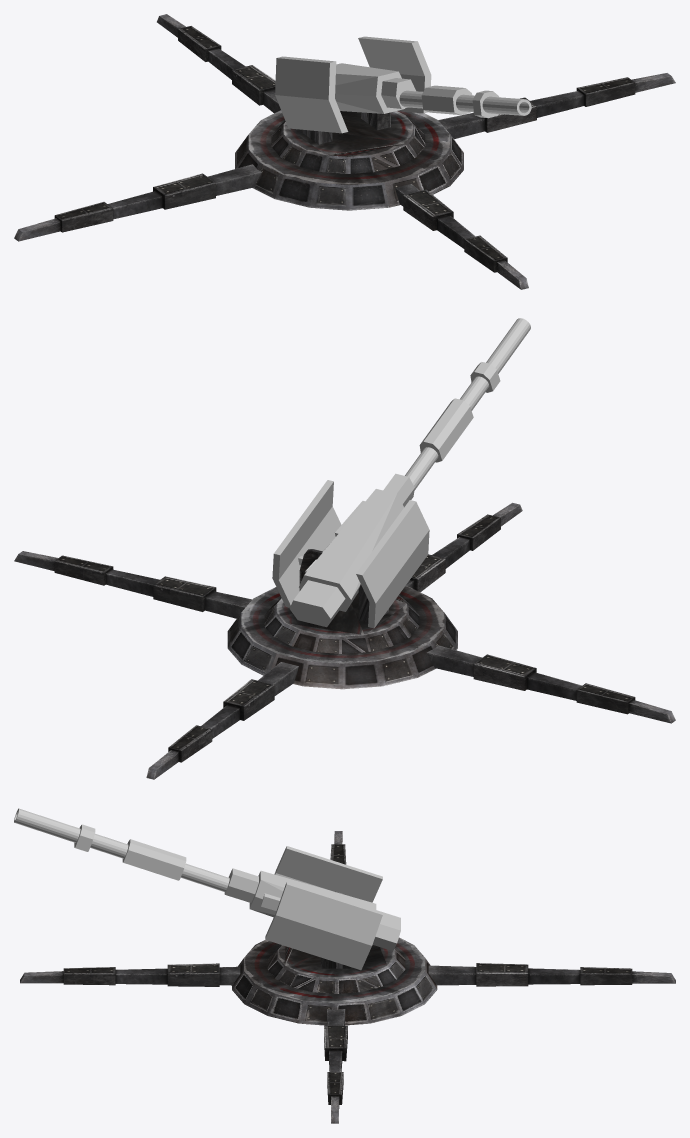
File: Artillery.dae
3 renders of one model, top to bottom at view 1: azimuth 30°, elevation 25°; view 2: azimuth 150°, elevation 25°; view 3: azimuth 270°, elevation 25°, orthographic. The views are drawn at different scales.
Visible parts, largest first — view 1: Mesh_Object, Mesh_Object_2, Mesh_Object_3; view 2: Mesh_Object, Mesh_Object_2, Mesh_Object_3; view 3: Mesh_Object, Mesh_Object_2, Mesh_Object_3.
Boxes of the visible parts, x1,y1,x2,y2 form: Mesh_Object: (14, 14, 675, 289); Mesh_Object_2: (275, 36, 531, 133); Mesh_Object_3: (271, 111, 425, 173); Mesh_Object: (14, 502, 675, 779); Mesh_Object_2: (272, 318, 530, 628); Mesh_Object_3: (264, 549, 419, 653); Mesh_Object: (20, 831, 675, 1123); Mesh_Object_2: (14, 808, 400, 970); Mesh_Object_3: (267, 892, 405, 993).
Size of the model in its own units: 7.05 by 1.97 by 6.87.
